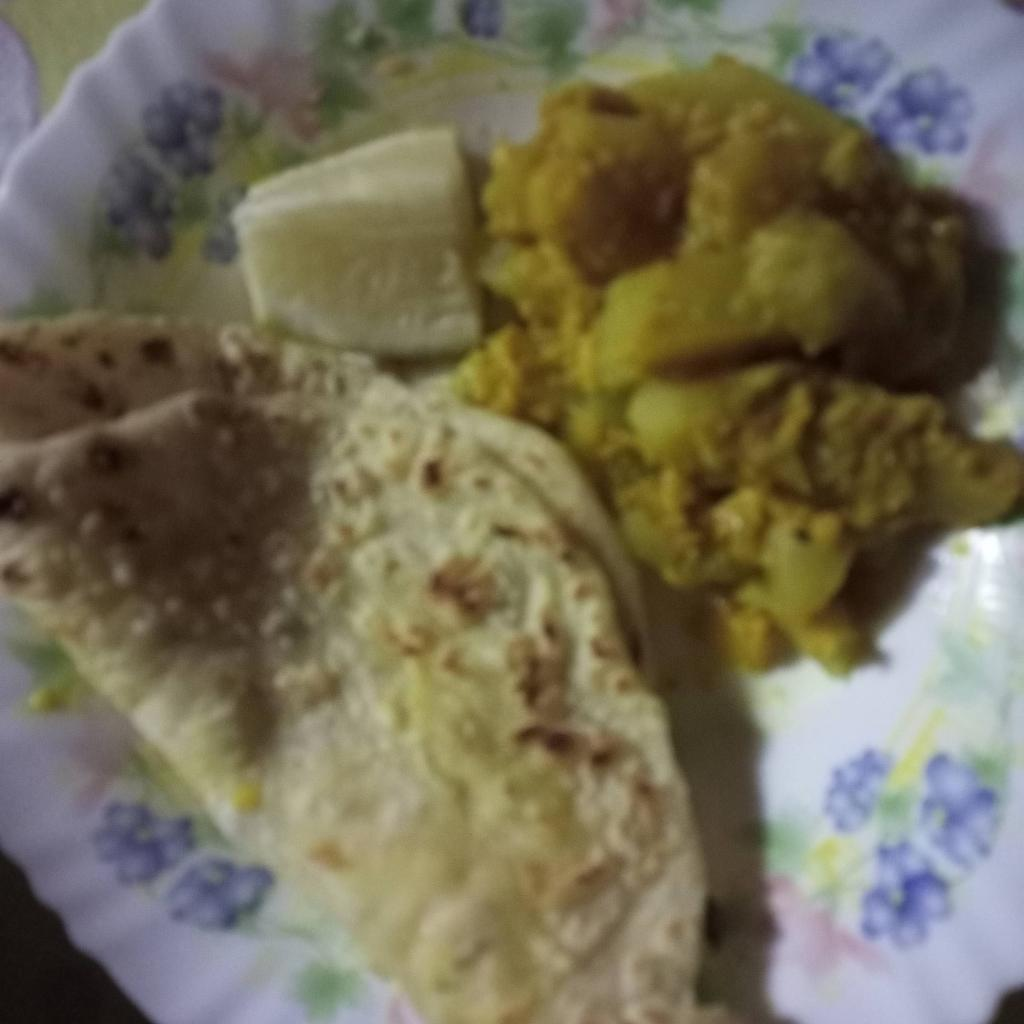lau: (460, 54, 1023, 669)
lemon: (229, 130, 481, 362)
ruti: (3, 314, 714, 1024)
